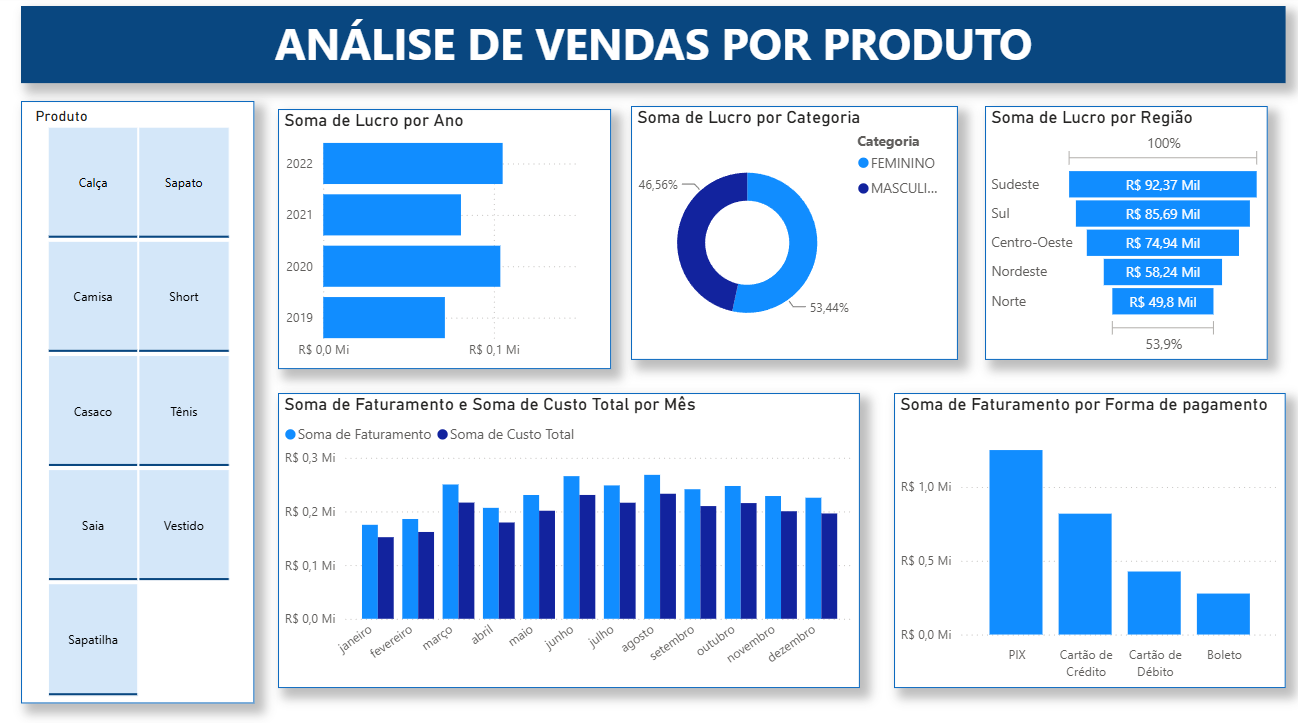

Layout of this report page (visuals, bound fields, positions):
{"tool":"powerbi","page":{"name":"PRODUTO","canvas":[1280,720],"ordinal":0},"visuals":[{"type":"textbox","box":[24.3,9.7,1230.4,74.9],"z":0},{"type":"slicer","fields":{"Values":["Vendas (2).Produto"]},"box":[24.3,102.1,226.6,585.5],"z":1},{"type":"clusteredColumnChart","fields":{"Category":["Vendas (2).Data da Venda.Variation.Hierarquia de datas.Mês"],"Y":["Sum(Vendas (2).Faturamento)","Sum(Vendas (2).Custo Total)"]},"box":[274.3,386.1,566.1,286.9],"z":2},{"type":"barChart","fields":{"Category":["Vendas (2).Data da Venda.Variation.Hierarquia de datas.Ano"],"Y":["Sum(Vendas (2).Lucro)"]},"box":[274.3,109.9,323.9,252.9],"z":3},{"type":"donutChart","fields":{"Y":["Sum(Vendas (2).Lucro)"],"Category":["Vendas (2).Categoria"]},"box":[617.6,107,318.1,247.1],"z":4},{"type":"funnel","fields":{"Category":["Vendas (2).Região"],"Y":["Sum(Vendas (2).Lucro)"]},"box":[961.9,107,275.3,247.1],"z":5},{"type":"columnChart","fields":{"Y":["Sum(Vendas (2).Faturamento)"],"Category":["Vendas (2).Forma de pagamento"]},"box":[873.4,386.1,381.3,286.9],"z":6}]}

Visuals, with their boxes in screenshot pixels (x1, y1, x2, y2), scaled from the page's 1280x720 canvas onto the 1298x723 screenshot:
textbox: box(25, 10, 1272, 85)
slicer - Vendas (2).Produto: box(25, 103, 254, 690)
clusteredColumnChart - Vendas (2).Data da Venda.Variation.Hierarquia de datas.Mês x Sum(Vendas (2).Faturamento): box(278, 388, 852, 676)
barChart - Vendas (2).Data da Venda.Variation.Hierarquia de datas.Ano x Sum(Vendas (2).Lucro): box(278, 110, 607, 364)
donutChart - Sum(Vendas (2).Lucro) x Vendas (2).Categoria: box(626, 107, 949, 356)
funnel - Vendas (2).Região x Sum(Vendas (2).Lucro): box(975, 107, 1255, 356)
columnChart - Sum(Vendas (2).Faturamento) x Vendas (2).Forma de pagamento: box(886, 388, 1272, 676)
